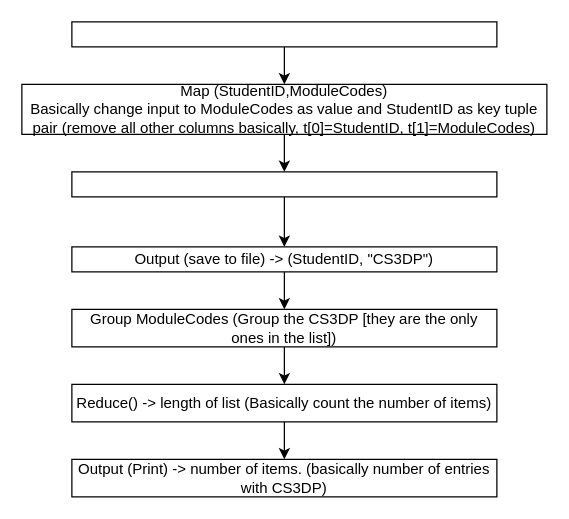
The diagram is 569 pixels wide and 519 high, and some of its shapes have lost their labels. Here are the shapes that lost their labels. From the top down, the box of each, then its label:
(71, 21, 497, 47): Input (Student ID, StudentName, StudentEmail,ModuleCodes)
(71, 171, 497, 197): Filter t[1] ModuleCodes down to only "CS3DP"
